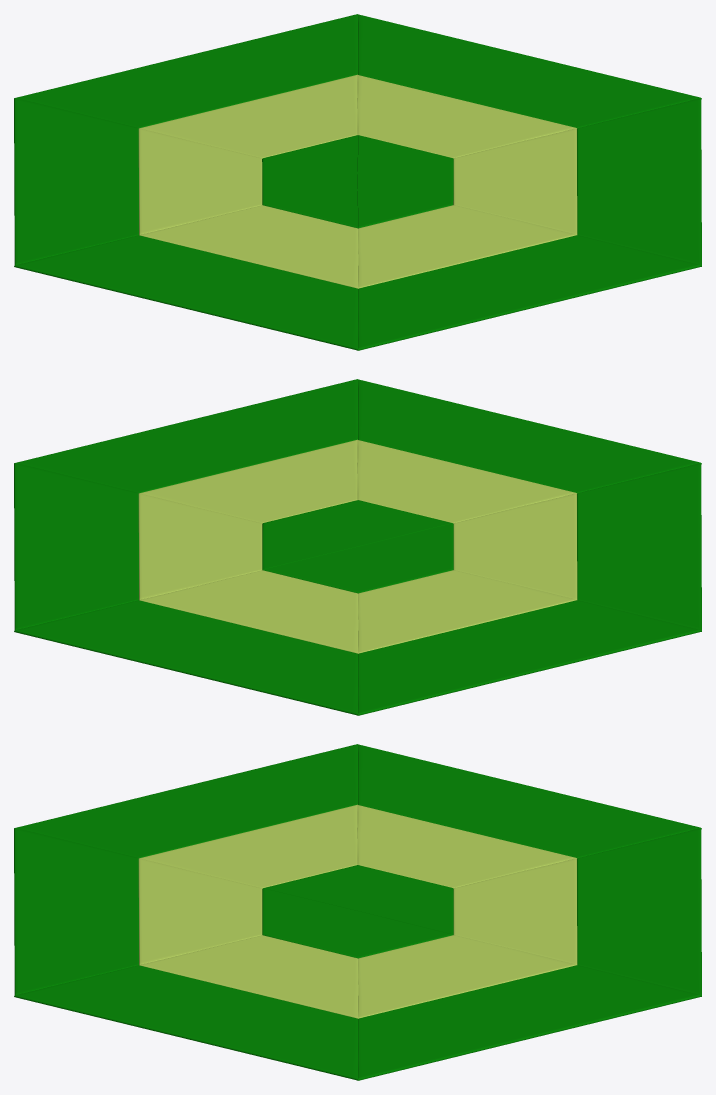
Rendered from HoopsFloor.fbx.
The picture shows the model from 3 angles, top to bottom: view 1: azimuth 30°, elevation 25°; view 2: azimuth 150°, elevation 25°; view 3: azimuth 270°, elevation 25°; orthographic projection.
Visible parts, largest first — view 1: Combined_Mesh__root__scene__4_78, Combined_Mesh__root__scene__4_75, Combined_Mesh__root__scene__4_76, Combined_Mesh__root__scene__4_80, Combined_Mesh__root__scene__4_77, Combined_Mesh__root__scene__4_79, Combined_Mesh__root__scene__4_81, Combined_Mesh__root__scene__2_43, Combined_Mesh__root__scene__2_44, Combined_Mesh__root__scene__2_40, Combined_Mesh__root__scene__2_41, Combined_Mesh__root__scene__2_42 (+1 smaller); view 2: Combined_Mesh__root__scene__4_80, Combined_Mesh__root__scene__4_77, Combined_Mesh__root__scene__4_75, Combined_Mesh__root__scene__4_79, Combined_Mesh__root__scene__4_76, Combined_Mesh__root__scene__4_78, Combined_Mesh__root__scene__4_81, Combined_Mesh__root__scene__2_41, Combined_Mesh__root__scene__2_39, Combined_Mesh__root__scene__2_44, Combined_Mesh__root__scene__2_42, Combined_Mesh__root__scene__2_43 (+1 smaller); view 3: Combined_Mesh__root__scene__4_79, Combined_Mesh__root__scene__4_76, Combined_Mesh__root__scene__4_77, Combined_Mesh__root__scene__4_78, Combined_Mesh__root__scene__4_75, Combined_Mesh__root__scene__4_80, Combined_Mesh__root__scene__4_81, Combined_Mesh__root__scene__2_42, Combined_Mesh__root__scene__2_40, Combined_Mesh__root__scene__2_39, Combined_Mesh__root__scene__2_43, Combined_Mesh__root__scene__2_41 (+1 smaller).
Boxes of the visible parts, left/top/right/bottom form: Combined_Mesh__root__scene__4_78: left=14, top=235, right=357, bottom=350; Combined_Mesh__root__scene__4_75: left=357, top=235, right=700, bottom=350; Combined_Mesh__root__scene__4_76: left=358, top=14, right=701, bottom=128; Combined_Mesh__root__scene__4_80: left=16, top=14, right=357, bottom=128; Combined_Mesh__root__scene__4_77: left=14, top=98, right=138, bottom=265; Combined_Mesh__root__scene__4_79: left=577, top=98, right=701, bottom=266; Combined_Mesh__root__scene__4_81: left=262, top=135, right=453, bottom=228; Combined_Mesh__root__scene__2_43: left=139, top=205, right=358, bottom=288; Combined_Mesh__root__scene__2_44: left=357, top=205, right=575, bottom=288; Combined_Mesh__root__scene__2_40: left=357, top=75, right=576, bottom=158; Combined_Mesh__root__scene__2_41: left=140, top=74, right=357, bottom=158; Combined_Mesh__root__scene__2_42: left=453, top=128, right=577, bottom=235; Combined_Mesh__root__scene__4_80: left=14, top=600, right=357, bottom=715; Combined_Mesh__root__scene__4_77: left=357, top=600, right=700, bottom=715; Combined_Mesh__root__scene__4_75: left=358, top=379, right=701, bottom=493; Combined_Mesh__root__scene__4_79: left=16, top=379, right=357, bottom=493; Combined_Mesh__root__scene__4_76: left=14, top=463, right=138, bottom=630; Combined_Mesh__root__scene__4_78: left=577, top=463, right=701, bottom=631; Combined_Mesh__root__scene__4_81: left=262, top=500, right=453, bottom=593; Combined_Mesh__root__scene__2_41: left=139, top=570, right=358, bottom=653; Combined_Mesh__root__scene__2_39: left=357, top=570, right=575, bottom=653; Combined_Mesh__root__scene__2_44: left=357, top=440, right=576, bottom=523; Combined_Mesh__root__scene__2_42: left=140, top=439, right=357, bottom=523; Combined_Mesh__root__scene__2_43: left=453, top=493, right=577, bottom=600; Combined_Mesh__root__scene__4_79: left=14, top=965, right=357, bottom=1080; Combined_Mesh__root__scene__4_76: left=357, top=965, right=700, bottom=1080; Combined_Mesh__root__scene__4_77: left=358, top=744, right=701, bottom=858; Combined_Mesh__root__scene__4_78: left=16, top=744, right=357, bottom=858; Combined_Mesh__root__scene__4_75: left=14, top=828, right=138, bottom=995; Combined_Mesh__root__scene__4_80: left=577, top=828, right=701, bottom=996; Combined_Mesh__root__scene__4_81: left=262, top=865, right=453, bottom=958; Combined_Mesh__root__scene__2_42: left=139, top=935, right=358, bottom=1018; Combined_Mesh__root__scene__2_40: left=357, top=935, right=575, bottom=1018; Combined_Mesh__root__scene__2_39: left=357, top=805, right=576, bottom=888; Combined_Mesh__root__scene__2_43: left=140, top=804, right=357, bottom=888; Combined_Mesh__root__scene__2_41: left=453, top=858, right=577, bottom=965.
Bounding box in the file's own units: 318 × 1.18 × 275.
